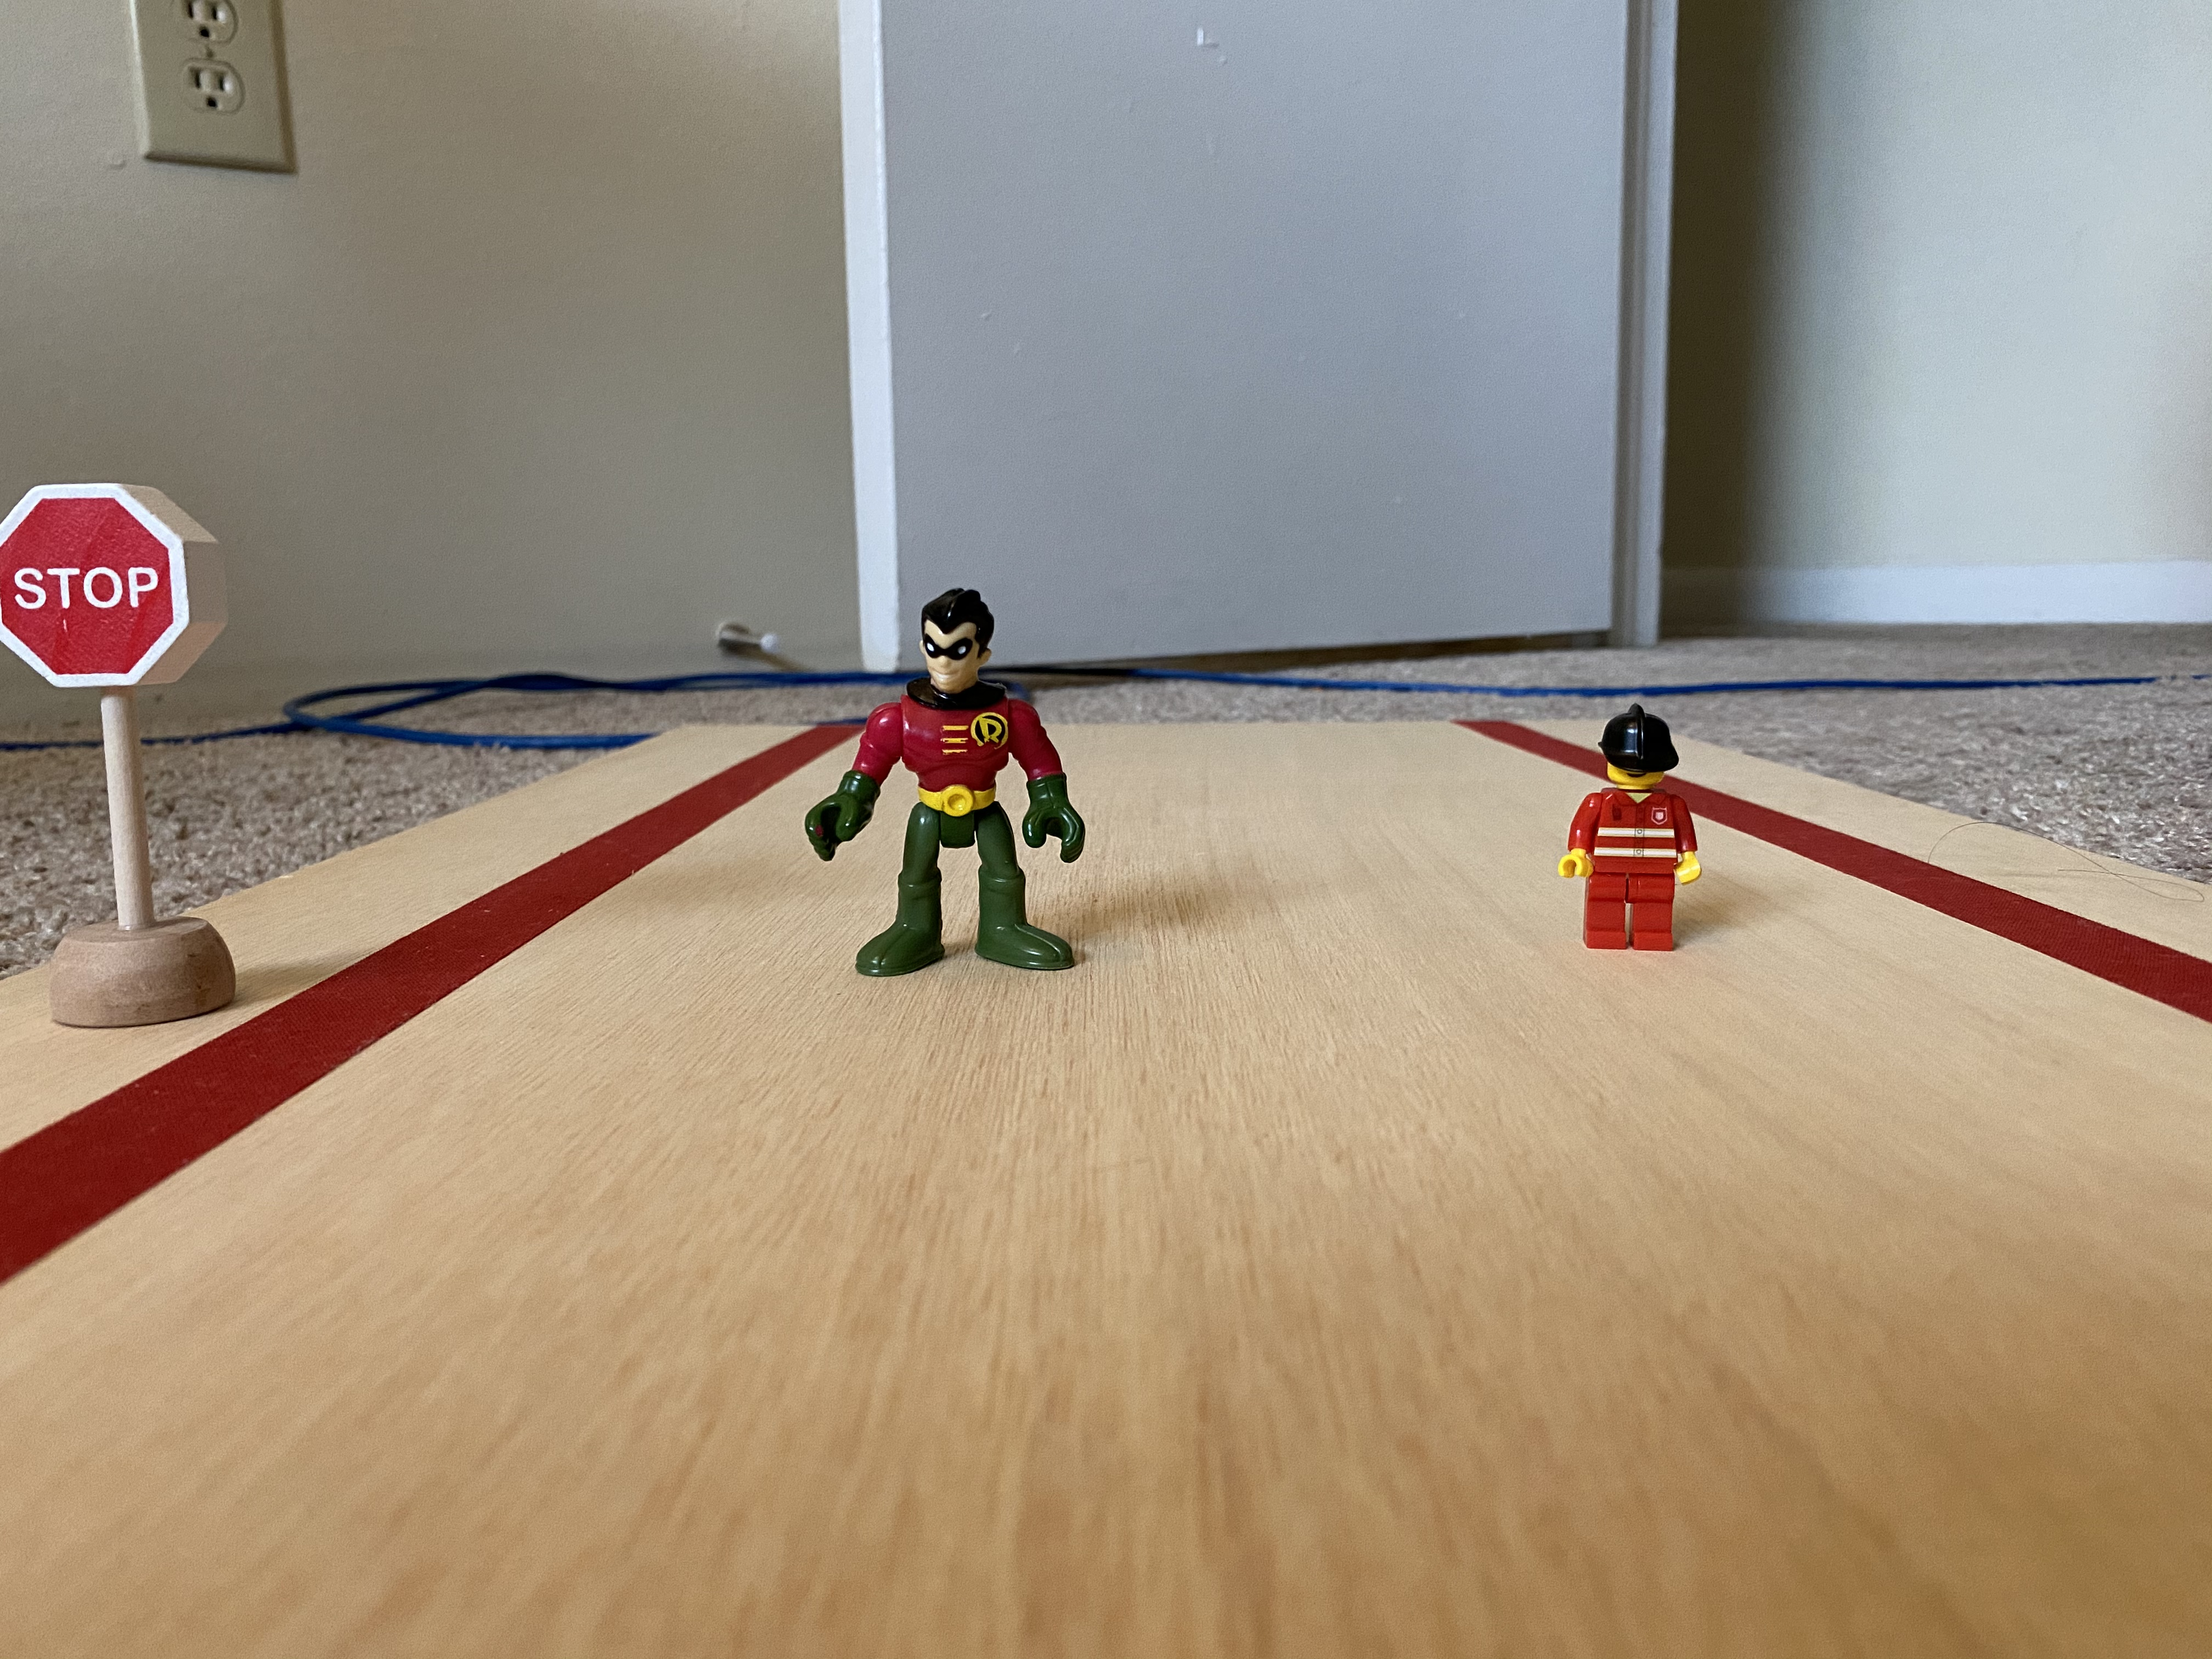Person: (795, 578, 1106, 1003), (1527, 692, 1737, 967)
Stop Sign: (4, 468, 218, 692)
